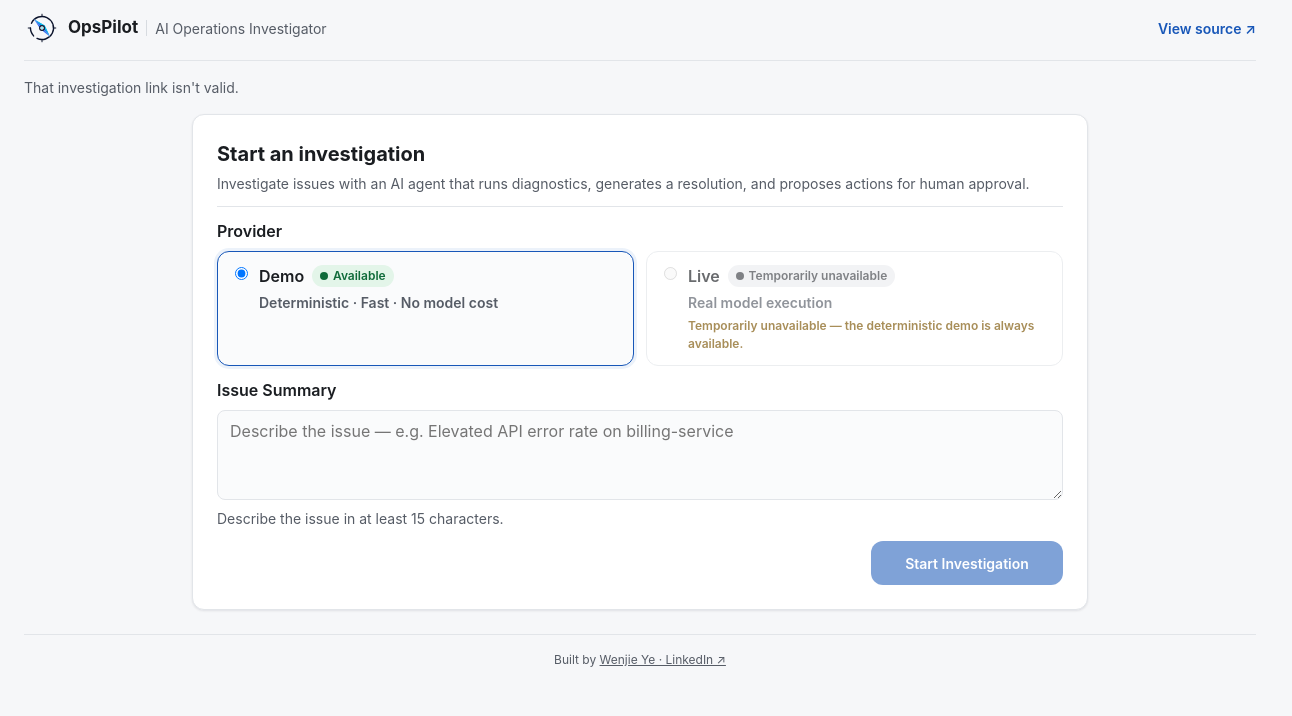
it: Terminal settlement coordinator (#38) › POST observes COMPLETED first, poll observes COMPLETED second — side effects exactly once
Type "Elevated error rate" into the text box labelled "Issue Summary" at [640, 455], box [217,410,1063,500]
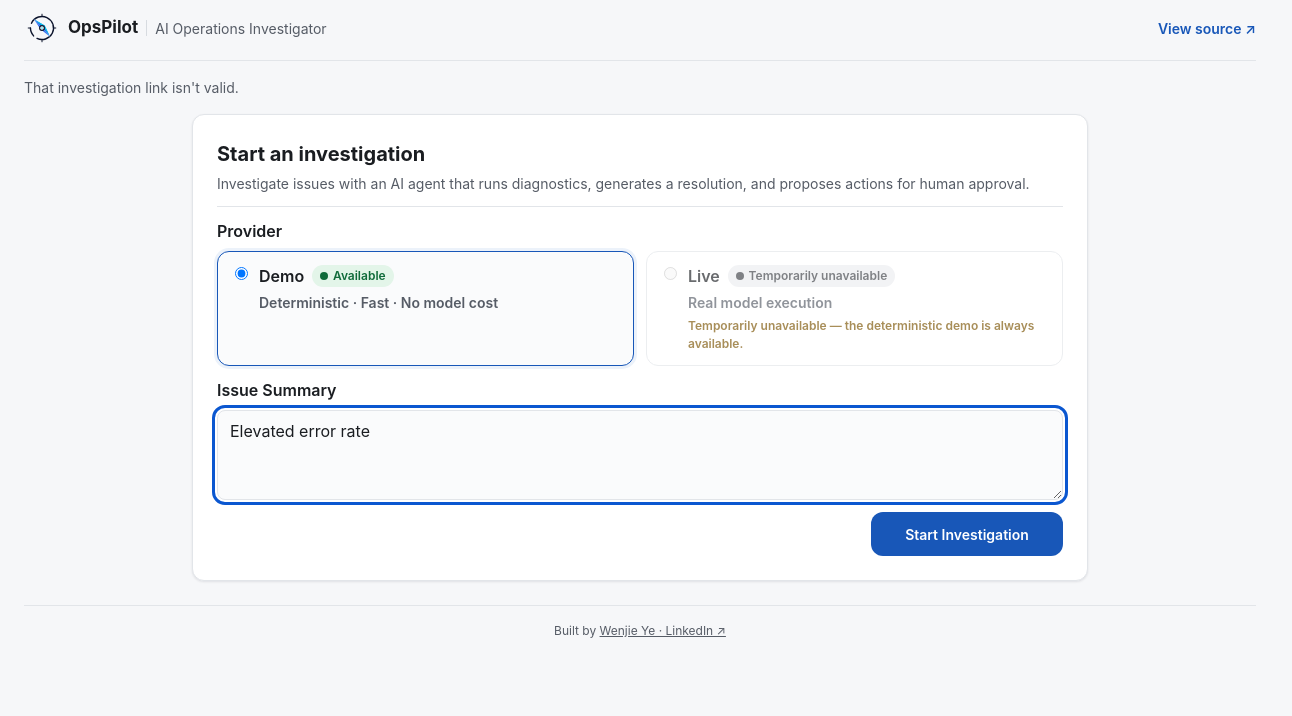
Click the button "Start Investigation" at [967, 534], box [871,512,1063,556]
(page scrolled)
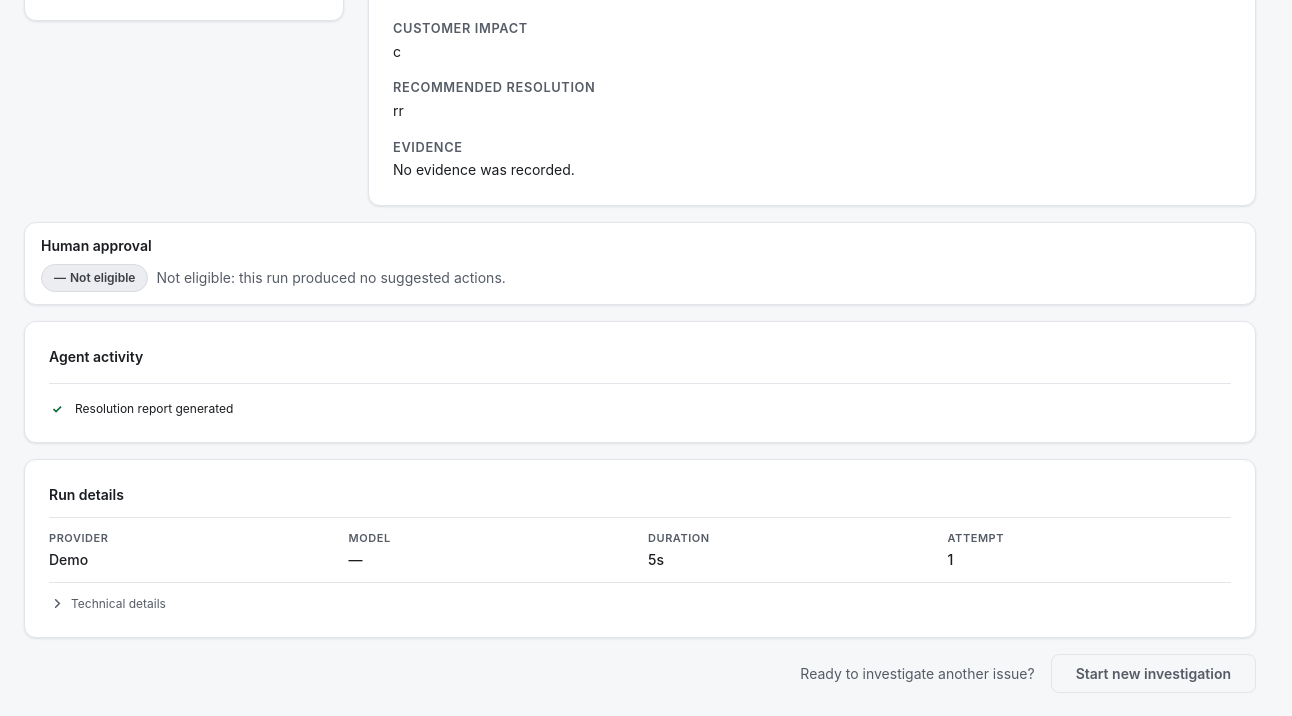
Check: the heading "Agent activity" is shown, box [49,348,143,365]
